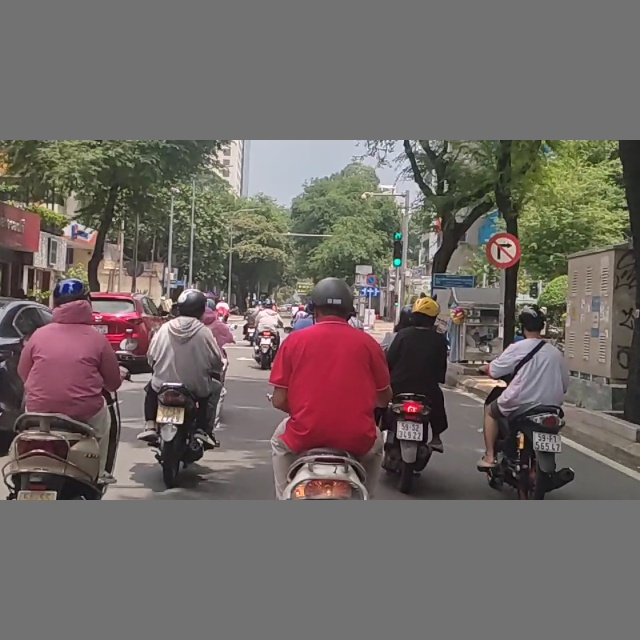P.123b: (487, 233, 519, 267)
P.131a: (365, 273, 377, 287)
